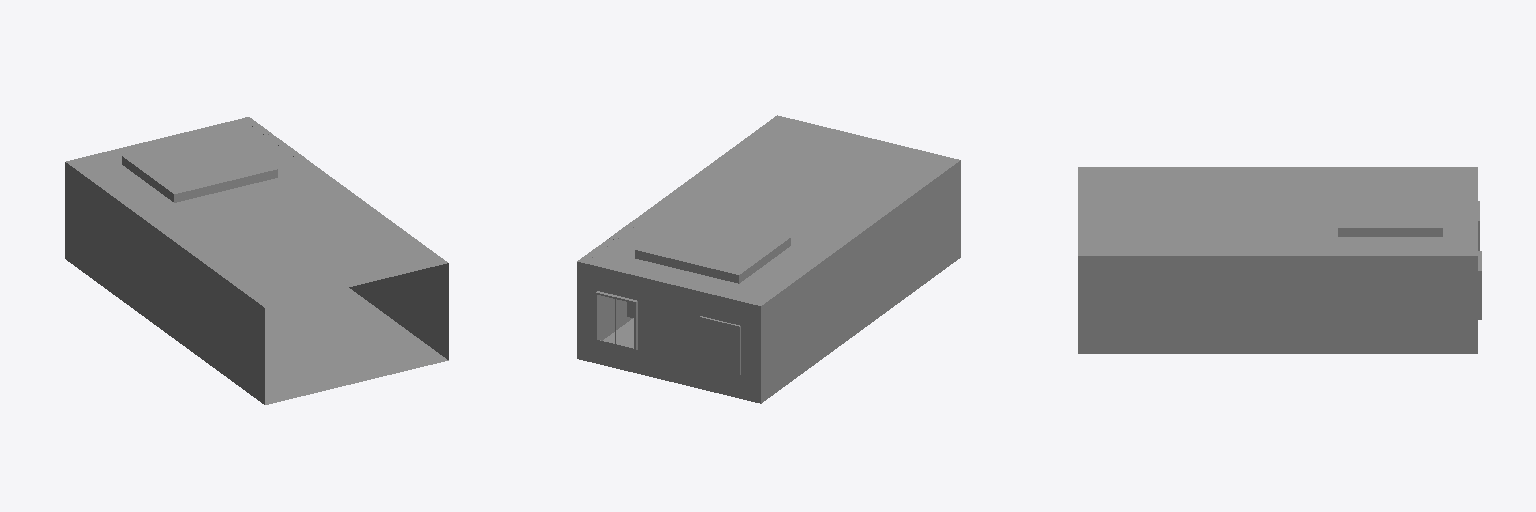
The model's file is Modern_living_room_window.obj.
3 views of the same model, side by side, from view 1: azimuth 30°, elevation 25°; view 2: azimuth 150°, elevation 25°; view 3: azimuth 270°, elevation 25° (orthographic).
Parts seen in each view (by area): view 1: Cube.011_Cube.019; view 2: Cube.011_Cube.019, Cube.012_Cube.020, Cube.000, Cube.002; view 3: Cube.011_Cube.019, Cube.012_Cube.020.
Part boxes in pixels (bbox=[...]): Cube.011_Cube.019: bbox=[65, 119, 448, 404]; Cube.011_Cube.019: bbox=[577, 115, 960, 403]; Cube.012_Cube.020: bbox=[577, 221, 638, 354]; Cube.000: bbox=[700, 319, 718, 368]; Cube.002: bbox=[720, 323, 738, 373]; Cube.011_Cube.019: bbox=[1078, 167, 1481, 353]; Cube.012_Cube.020: bbox=[1368, 253, 1477, 347].
Bounding box in the file's own units: 18.02 × 9.93 × 34.26.